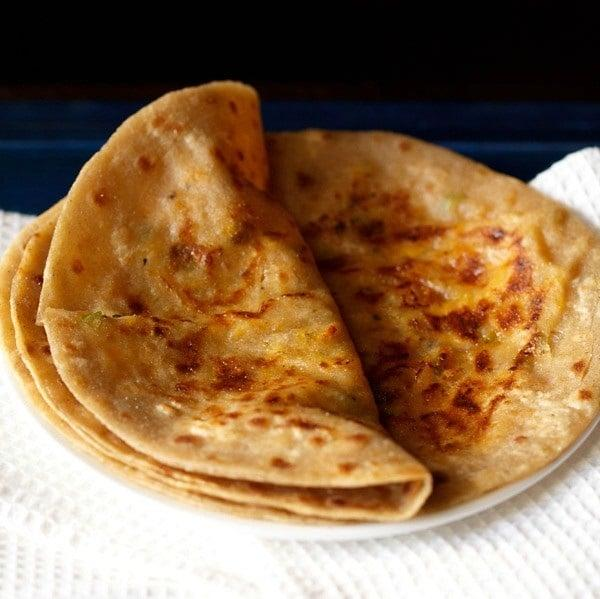paratha: (4, 84, 420, 516), (286, 95, 596, 511)
